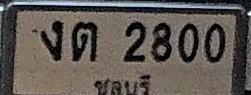0: (204, 22, 225, 63), (178, 22, 198, 63)
2: (123, 21, 145, 61)
8: (152, 22, 172, 61)
A07: (41, 20, 62, 60)
A21: (71, 21, 98, 61)
CBI: (88, 71, 155, 95)
